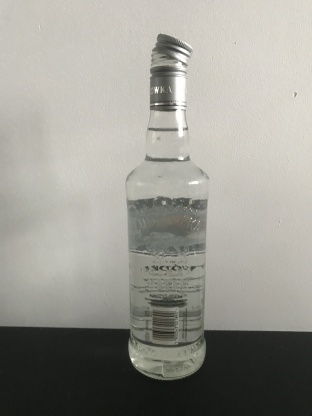nakretka: (148, 31, 194, 112)
